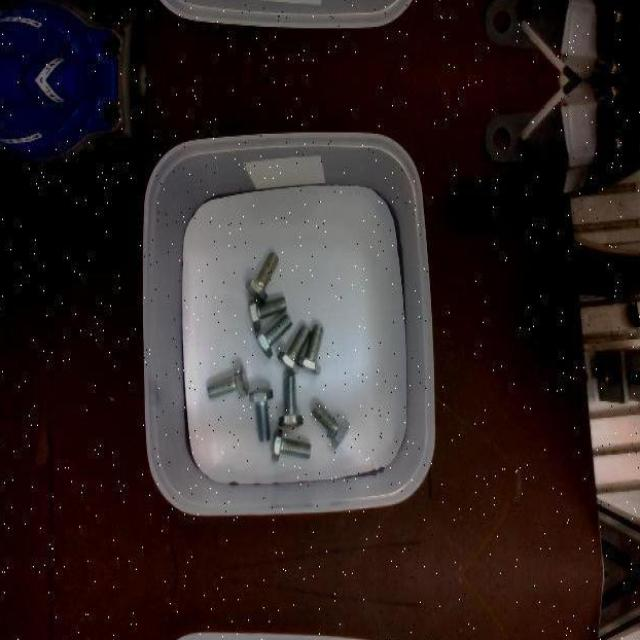screw: (312, 400, 350, 448), (245, 251, 279, 302), (278, 324, 311, 375), (256, 313, 293, 358), (207, 362, 249, 399), (249, 296, 288, 331), (250, 387, 275, 440), (272, 428, 312, 461), (299, 323, 324, 375), (279, 376, 302, 428)
